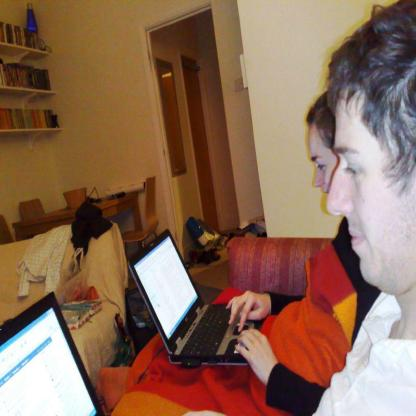board: (132, 226, 252, 370), (0, 292, 105, 416)
